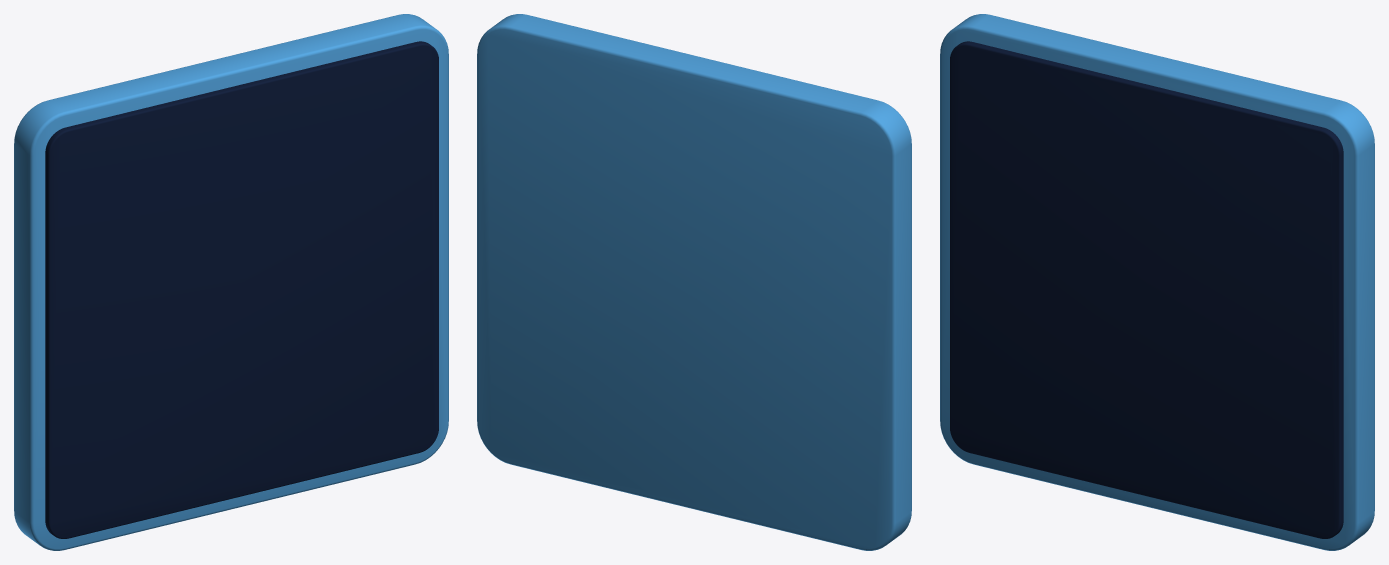
File: panel-cuadrado-oscuro.glb
The picture shows the model from 3 angles, left to right: view 1: azimuth 30°, elevation 25°; view 2: azimuth 150°, elevation 25°; view 3: azimuth 330°, elevation 25°; orthographic projection.
Parts seen in each view (by area): view 1: placa, borde; view 2: borde; view 3: placa, borde.
Part boxes in pixels (x1,y1,x2,y2): placa: (45, 41, 438, 538); borde: (14, 14, 448, 550); borde: (477, 14, 911, 550); placa: (950, 41, 1343, 538); borde: (940, 14, 1374, 550).
Size of the model in its own units: 2.1 by 2.1 by 0.192.
